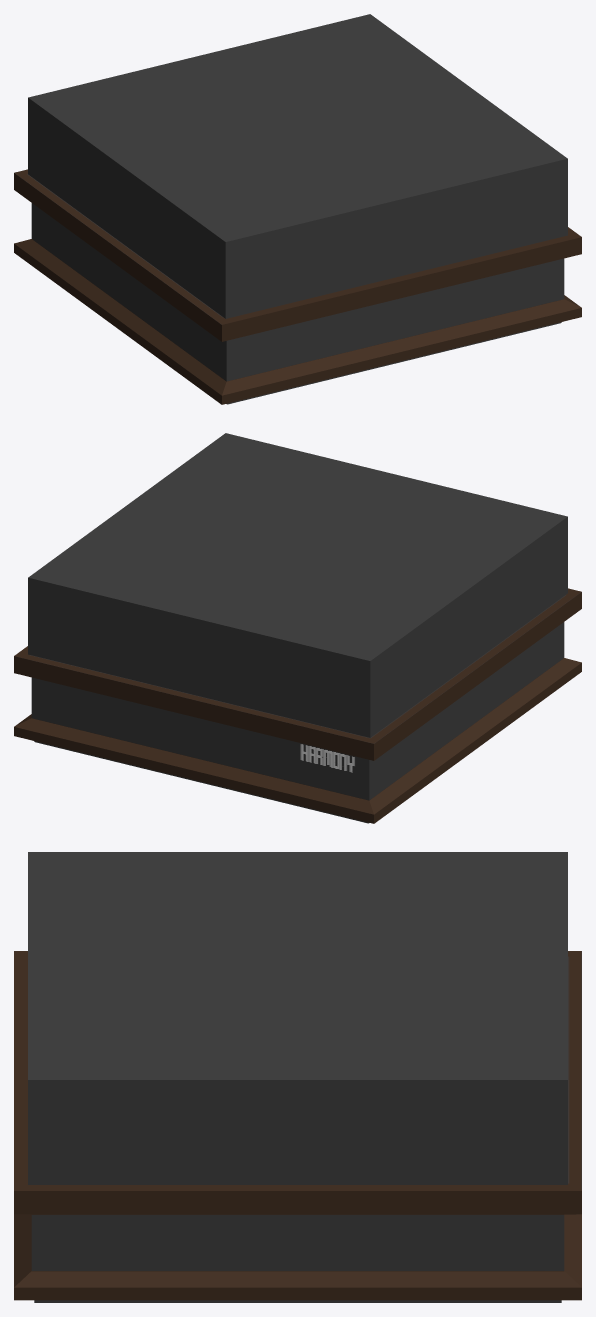
Rendered from tertutup.fbx.
3 renders of one model, top to bottom at view 1: azimuth 30°, elevation 25°; view 2: azimuth 150°, elevation 25°; view 3: azimuth 270°, elevation 25°, orthographic. The views are drawn at different scales.
Visible parts, largest first — view 1: Cube.002, Cube, Cube.001; view 2: Cube.002, Cube, Cube.001; view 3: Cube.002, Cube, Cube.001.
Boxes of the visible parts, bbox=[...] form: Cube.002: bbox=[28, 14, 567, 318]; Cube: bbox=[14, 169, 581, 404]; Cube.001: bbox=[226, 322, 561, 404]; Cube.002: bbox=[28, 433, 567, 737]; Cube: bbox=[14, 588, 581, 823]; Cube.001: bbox=[34, 741, 369, 823]; Cube.002: bbox=[28, 852, 567, 1184]; Cube: bbox=[14, 951, 581, 1300]; Cube.001: bbox=[34, 1300, 561, 1302].
Size of the model in its own units: 200 by 87.62 by 200.
Materials: 3 (3 with a texture image).
